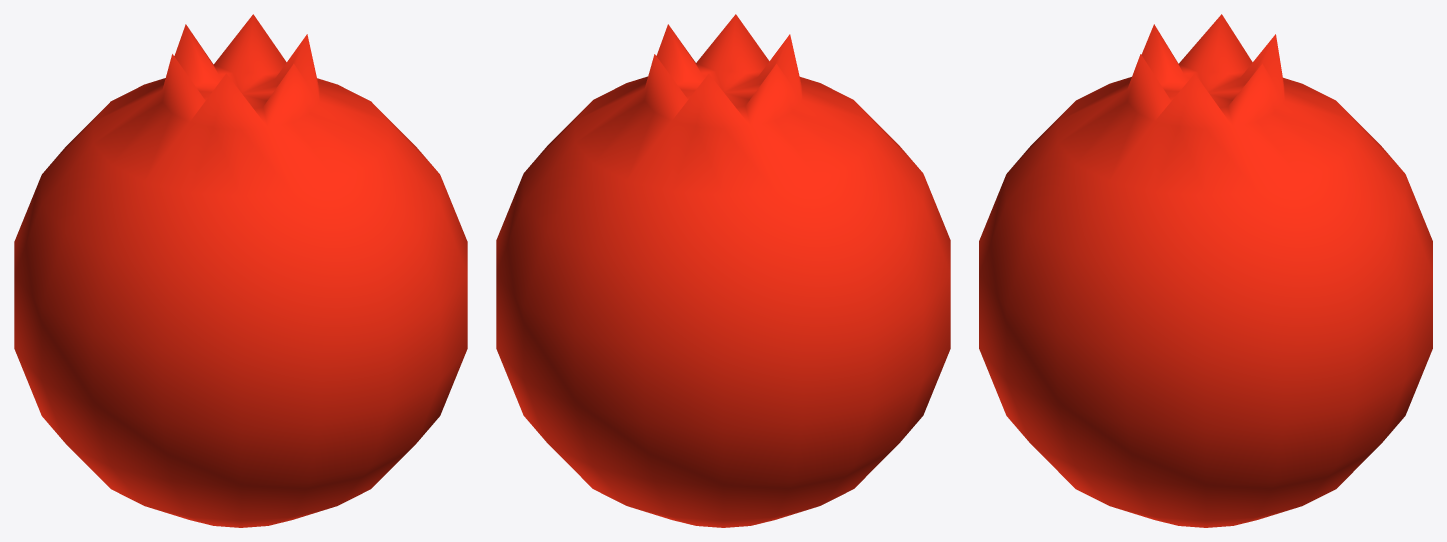
File: Fruit2.fbx
3 renders of one model, left to right at view 1: azimuth 30°, elevation 25°; view 2: azimuth 150°, elevation 25°; view 3: azimuth 270°, elevation 25°, orthographic.
Visible parts, largest first — view 1: Fruit2; view 2: Fruit2; view 3: Fruit2.
Part boxes in pixels (x1,y1,x2,y2): Fruit2: (14, 14, 467, 527); Fruit2: (496, 14, 950, 527); Fruit2: (979, 14, 1432, 527).
Size of the model in its own units: 157 by 174 by 155.
